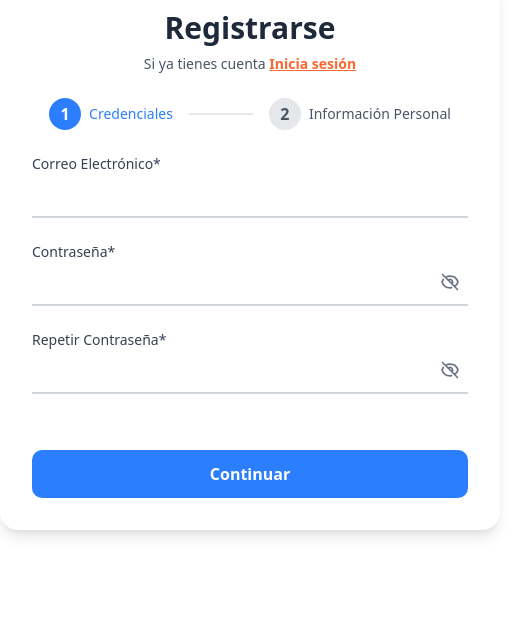
Test: RegisterForm › Navegación entre pasos › debe volver al paso 1 al hacer clic en Atrás
The image size is (517, 620).
Type "test@example.com" into the field at {"x": 250, "y": 197}, box left=32, top=176, right=468, bottom=218
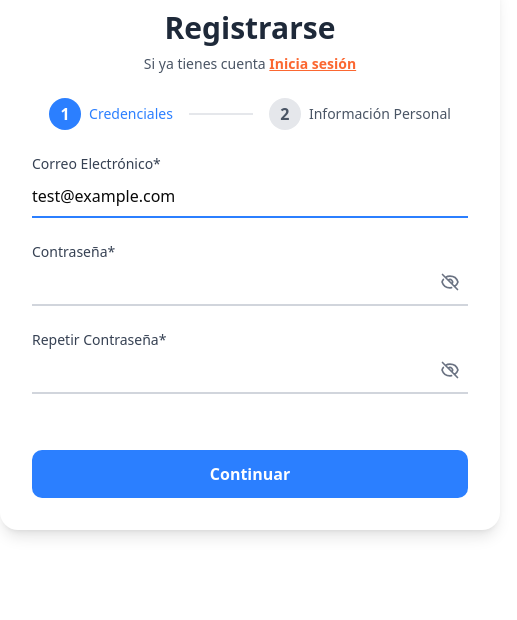
Type "Test1234" into the password field labelled "Contraseña*" at {"x": 250, "y": 285}, box left=32, top=264, right=468, bottom=306
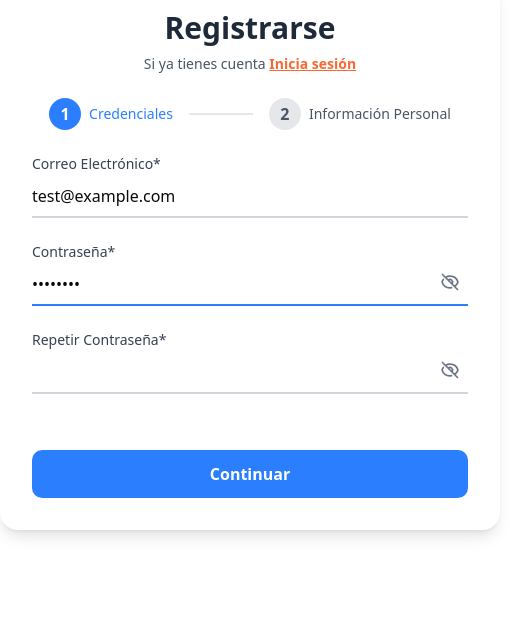
Type "Test1234" into the password field labelled "Repetir Contraseña*" at {"x": 250, "y": 373}, box left=32, top=352, right=468, bottom=394
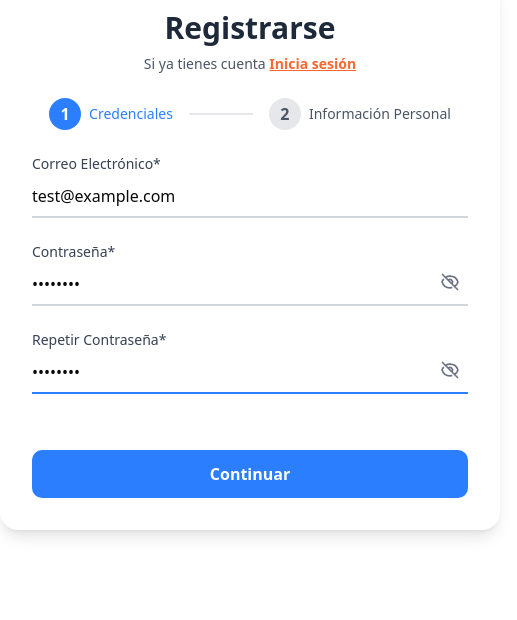
Click the button "Continuar" at {"x": 250, "y": 474}, box left=32, top=450, right=468, bottom=498
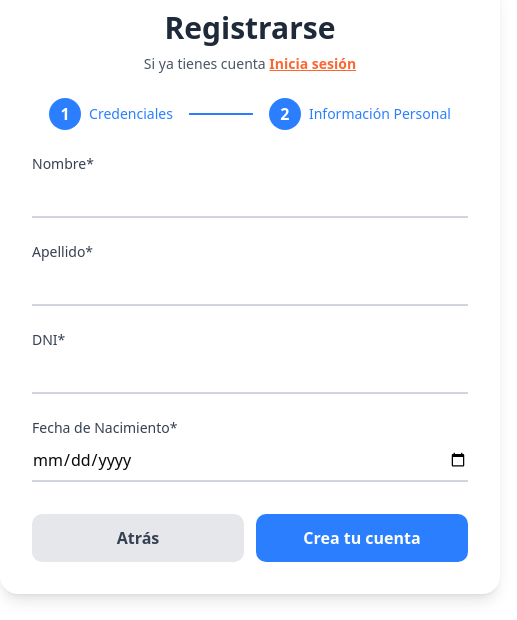
Expected: the text "Nombre*" is shown, left=32, top=154, right=94, bottom=173
Volver atrás
Click the button "Atrás" at {"x": 138, "y": 538}, box left=32, top=514, right=244, bottom=562
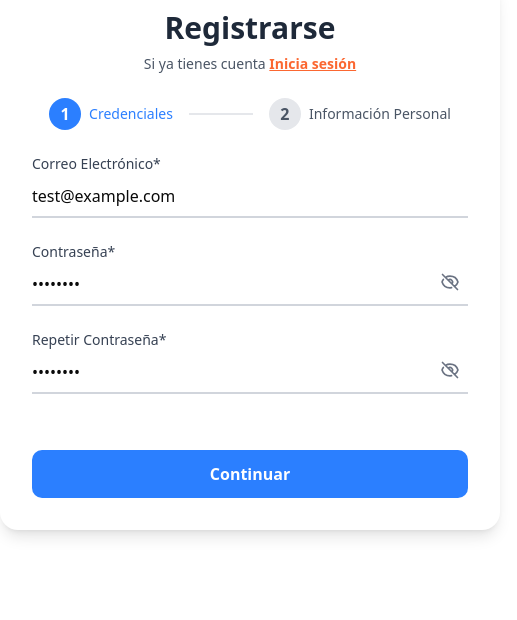
Expected: the button "Continuar" is shown, left=32, top=450, right=468, bottom=498
Expected: the text "Nombre*" is gone
